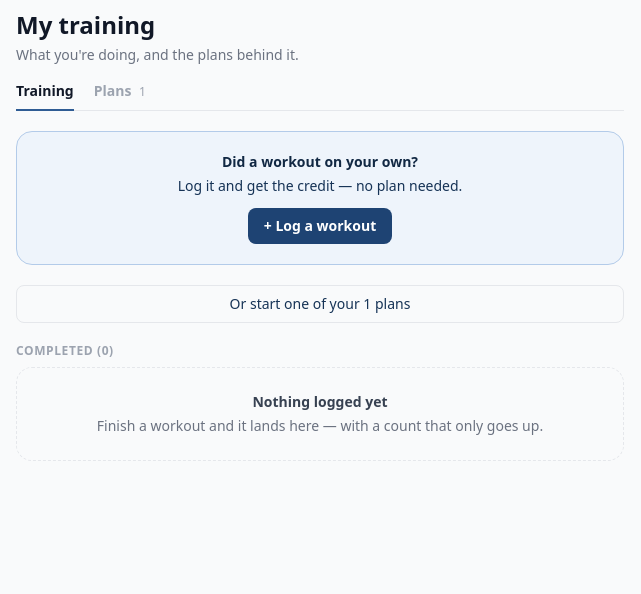
Test: MyWorkoutsView (SB-332) › renders assigned workouts for a linked athlete
This screenshot has width=641, height=594.
Click the tab with test id "tab-plans".
click(120, 96)  # box [94,81,146,111]
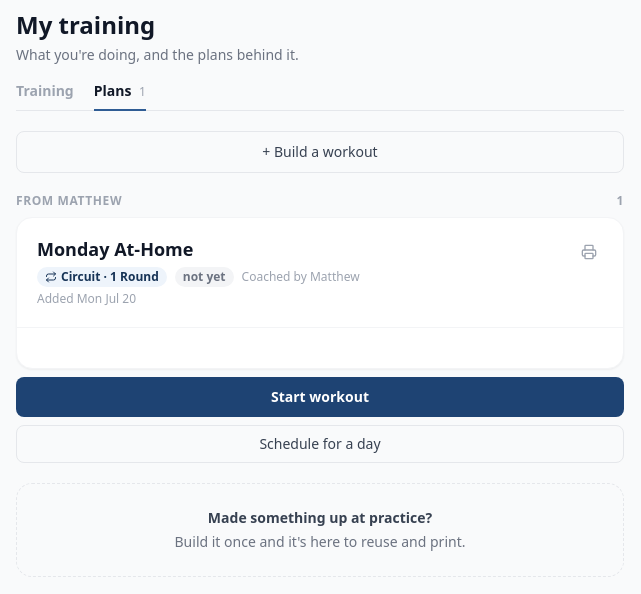
Expected: the text "Monday At-Home" is shown, [37,237,193,261]
Expected: the text "Coached by Matthew" is shown, [242,268,360,284]
